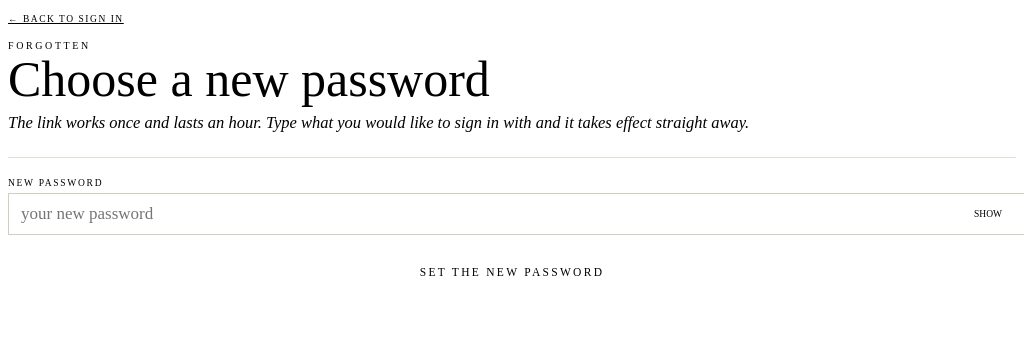
Test: NewPasswordStep, with a link that still works › takes the message away as soon as the reader answers it
Step 1. Submit the form, box [8,178,1016,291]
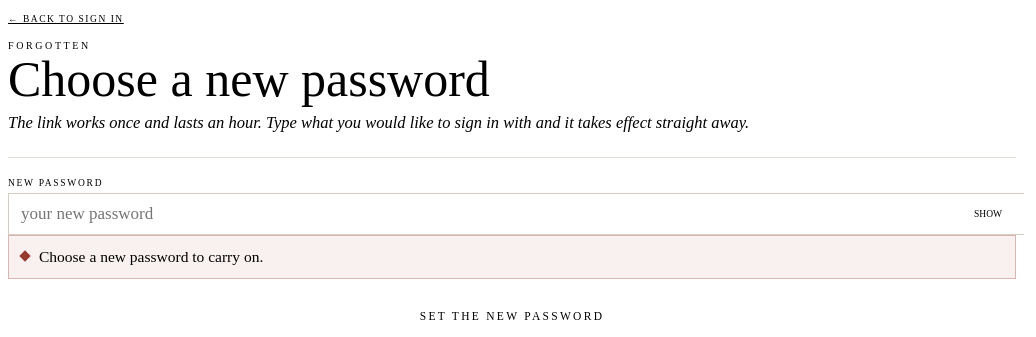
Result: the message "Choose a new password to carry on." is shown at [8,235,1016,279]
Step 2. Type "a-new-password-entirely" into the password field named "password" → x=516, y=214, box [8,193,1024,235]
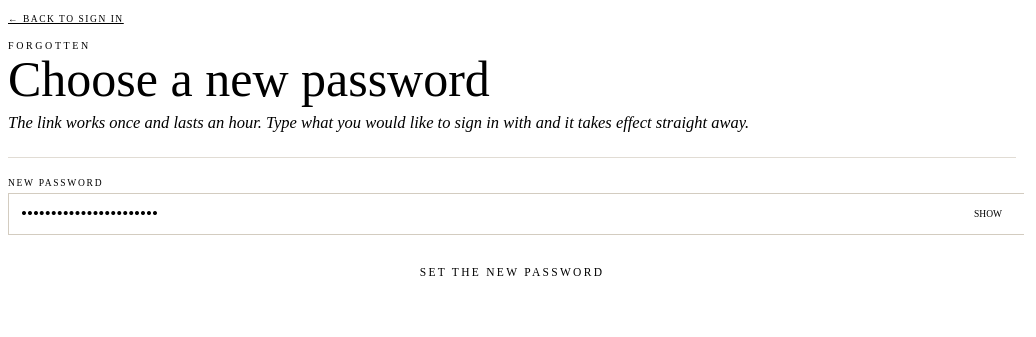
Result: the message "Choose a new password to carry on." is gone
